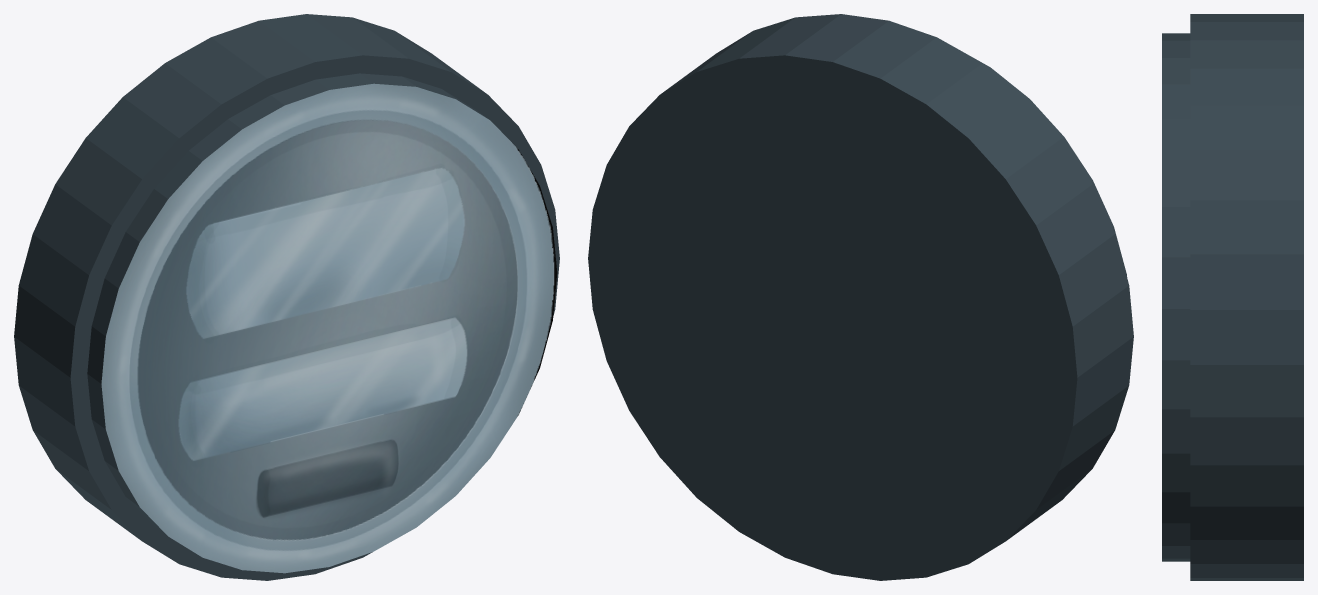
Rendered from Termostat.glb.
3 views of the same model, side by side, from view 1: azimuth 30°, elevation 25°; view 2: azimuth 150°, elevation 25°; view 3: azimuth 270°, elevation 25° (orthographic).
Visible parts, largest first — view 1: Cylinder; view 2: Cylinder; view 3: Cylinder.
Boxes of the visible parts, x1,y1,x2,y2 form: Cylinder: (14, 14, 559, 580); Cylinder: (588, 14, 1133, 580); Cylinder: (1162, 14, 1303, 580).
Bounding box in the file's own units: 0.2 × 0.2 × 0.05.
Materials: 2 (1 with a texture image).
